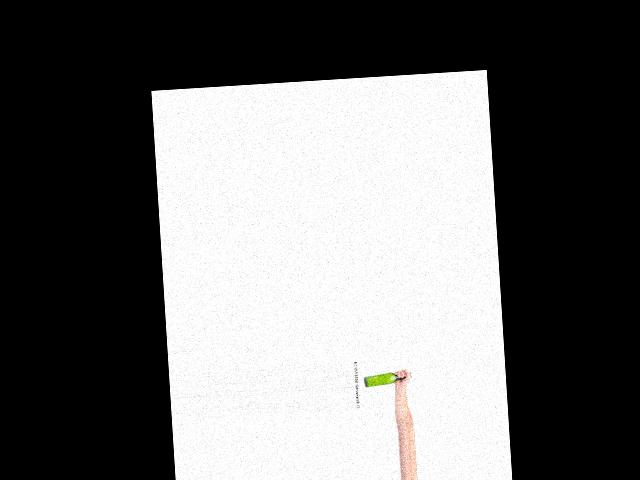beer: (363, 371, 411, 388)
